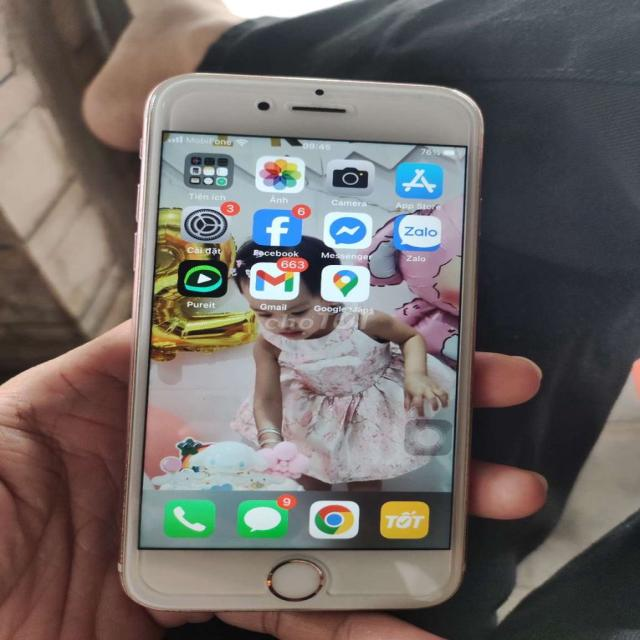gen_6: (119, 74, 483, 611)
